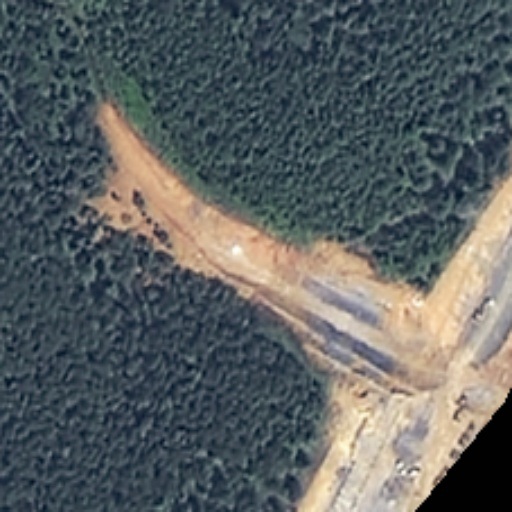landslide: (87, 104, 435, 403)
